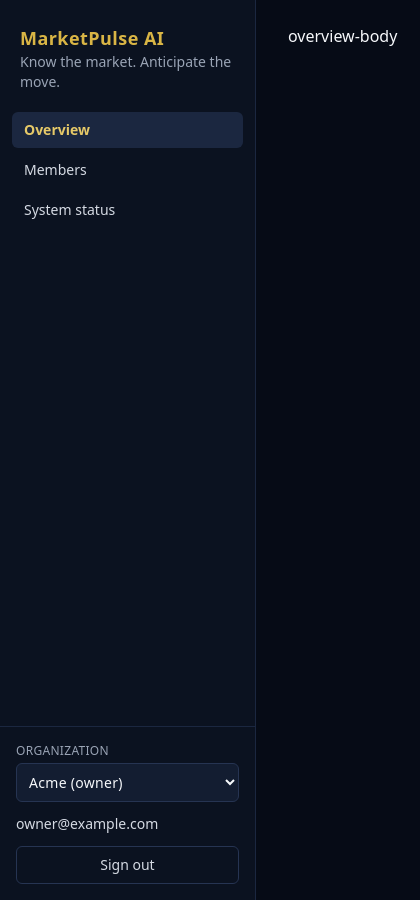
Test: AppShell keyboard navigation › navigates with keyboard and shows the current page as selected
This screenshot has width=420, height=900.
Click the link "Members" at (55, 170), box [24,160,87,179]
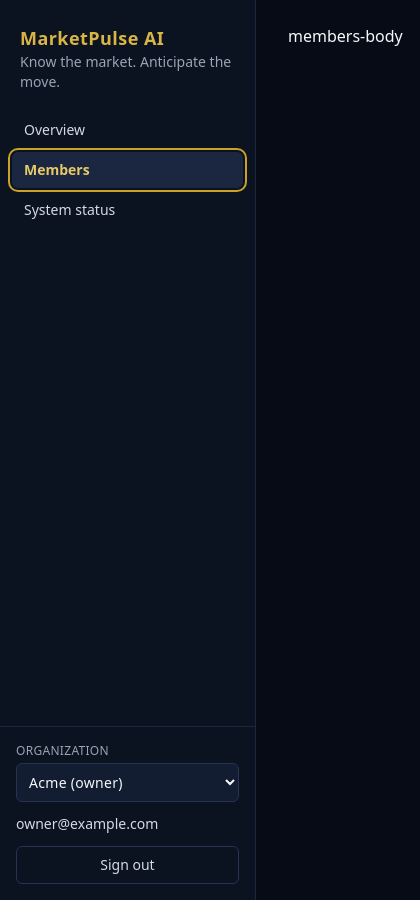
Check: the text "members-body" is shown, box [288,25,403,47]
Click the link "Overview" at (55, 130), box [24,120,85,139]
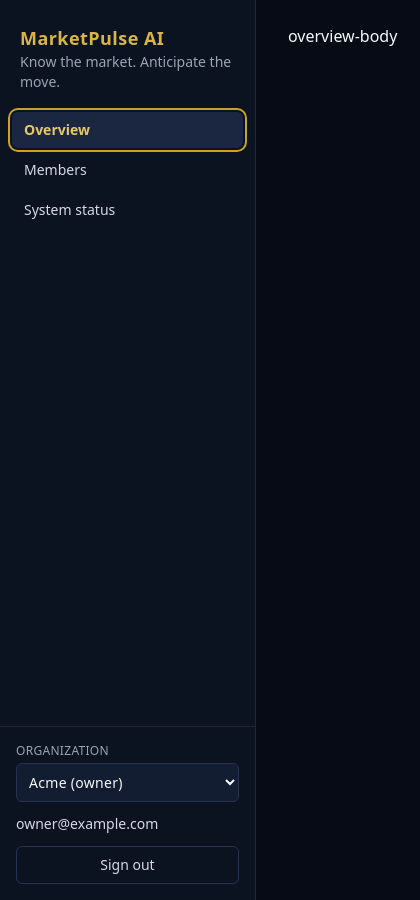
Check: the text "overview-body" is shown, box [288,25,397,47]
